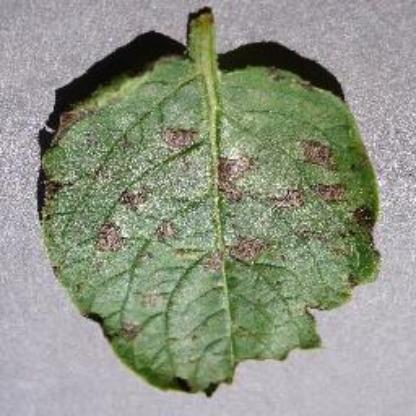Early-Blight: (35, 6, 385, 396)
